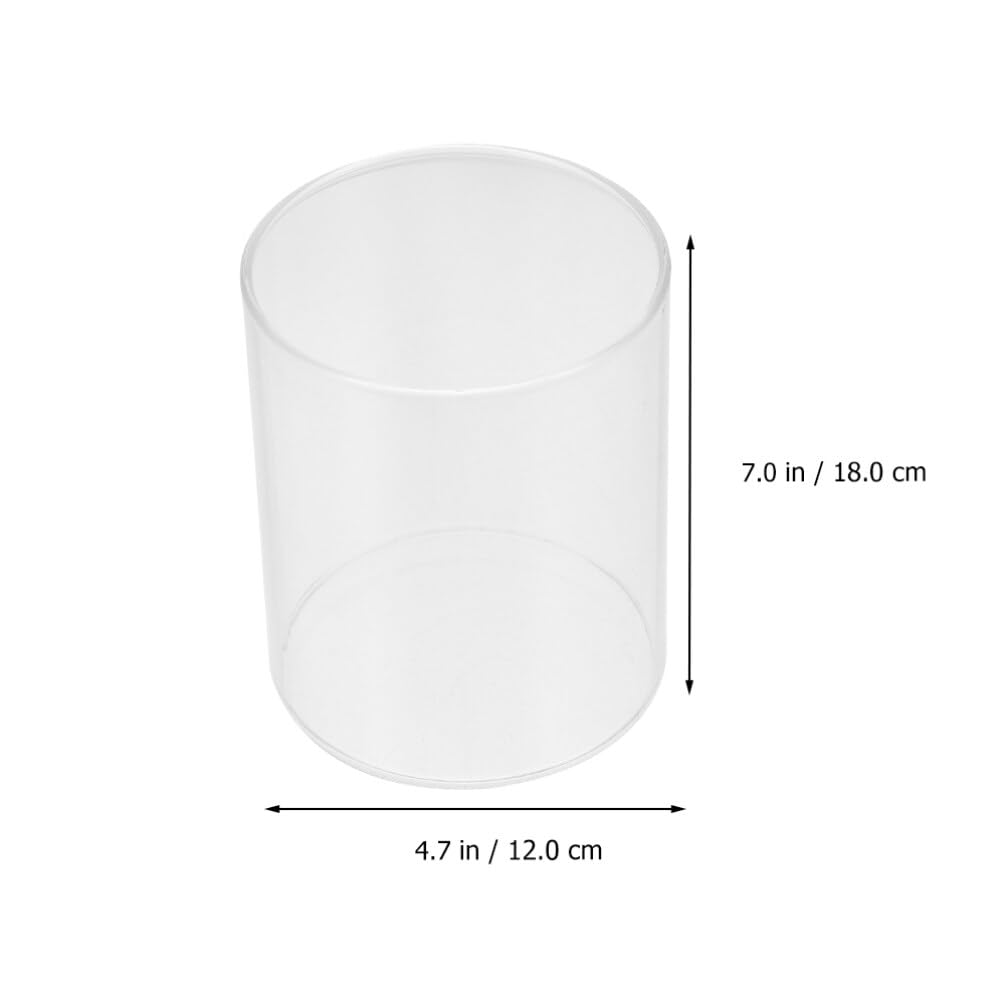/: (814, 461, 823, 486), (489, 839, 498, 864)
12.0: (510, 840, 559, 860)
18.0: (835, 462, 883, 482)
4.7: (415, 841, 450, 860)
7.0: (743, 463, 776, 482)
cm: (893, 466, 925, 482), (569, 844, 601, 860)
in: (460, 840, 479, 860), (786, 462, 804, 481)
